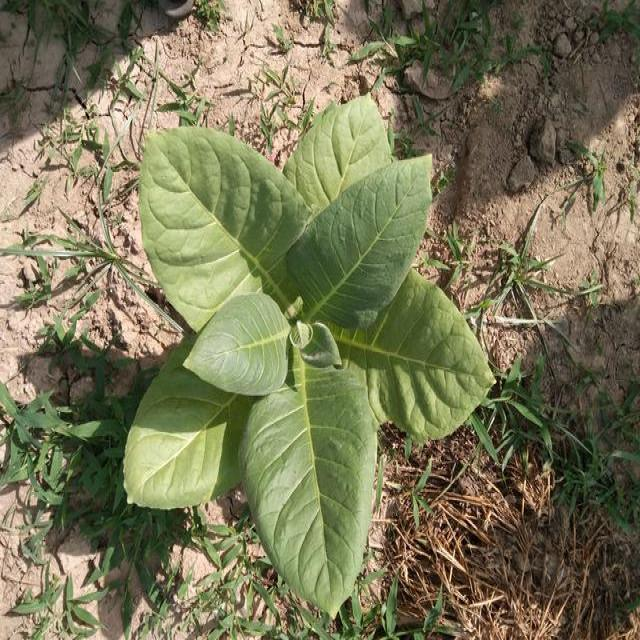crop: (124, 112, 498, 620)
